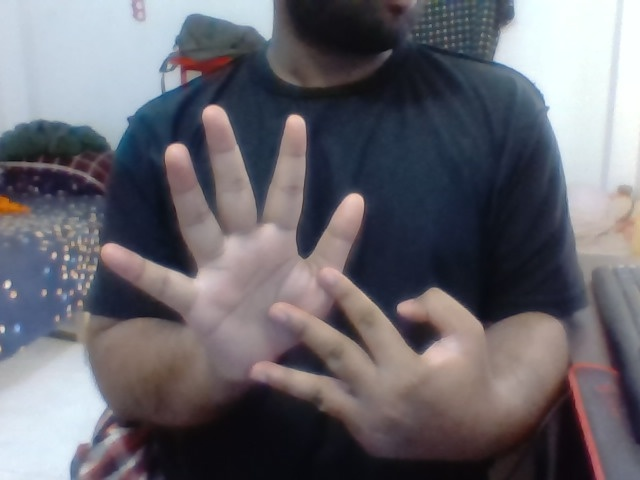M: (83, 97, 488, 480)
